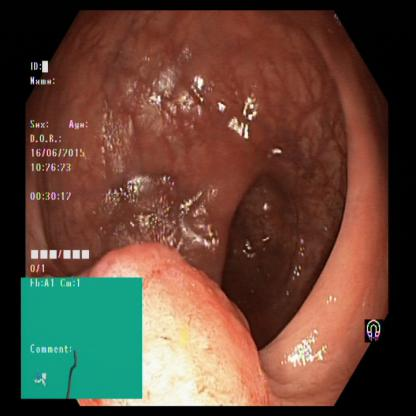Labels: (28, 56, 97, 277), (22, 281, 141, 397), (364, 310, 388, 347)
Polyps: (144, 250, 262, 404)
